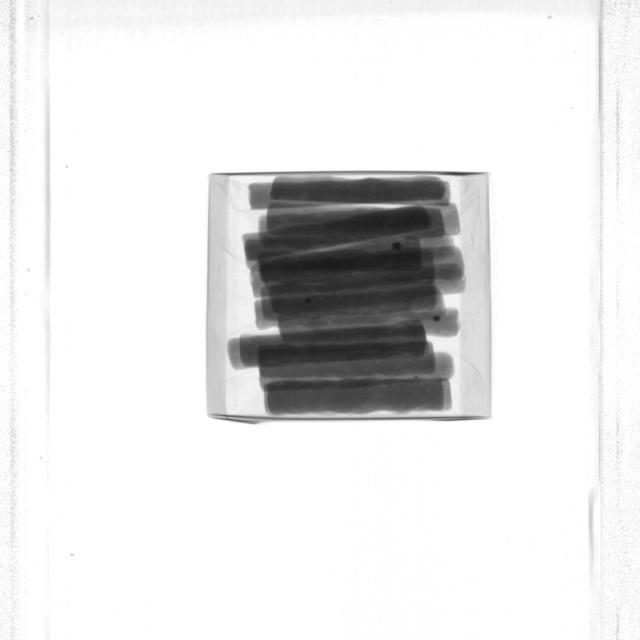ym: (392, 242, 402, 251), (433, 315, 441, 323), (306, 298, 311, 303), (415, 375, 419, 380)
